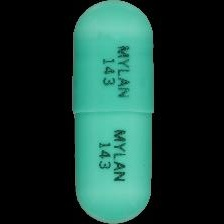0440-1652: (0, 0, 224, 224)
